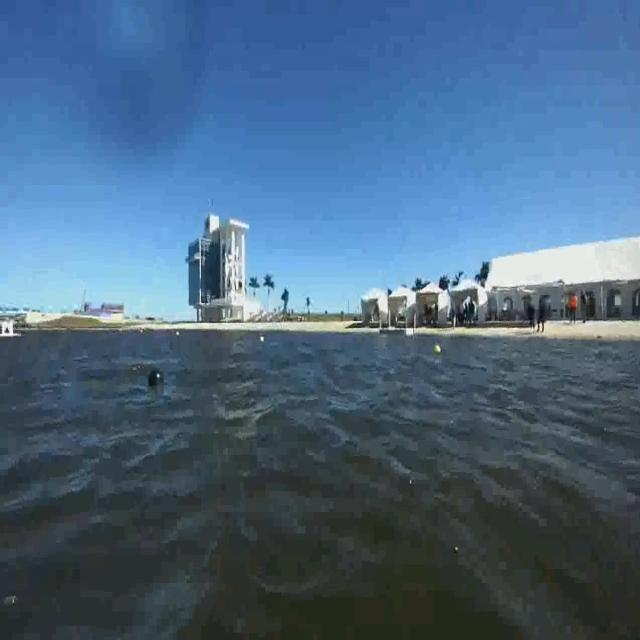black-buoy: (148, 366, 164, 389)
yellow-buoy: (433, 344, 441, 356)
